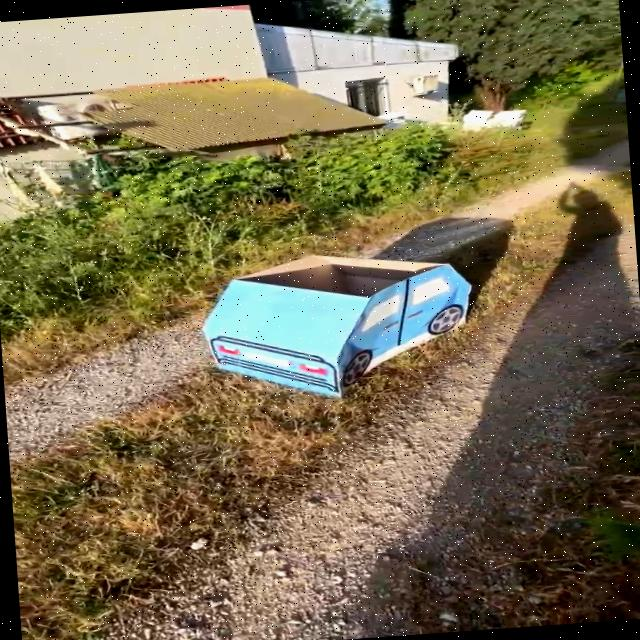blue_car: (157, 205, 553, 432)
